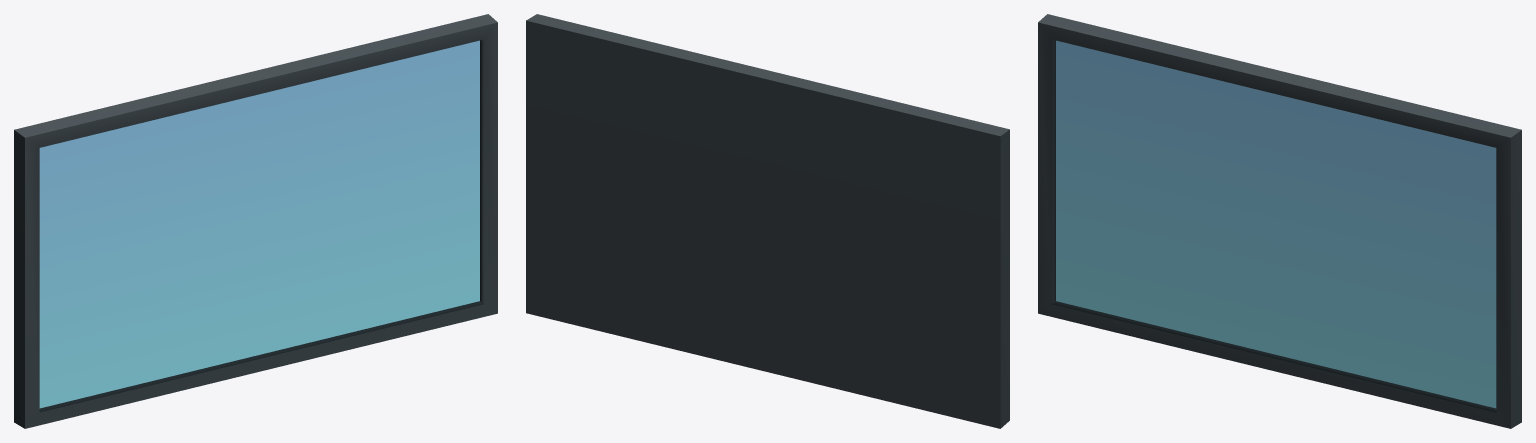
The model's file is human-electronics-flat-screen-tv_v1.glb.
3 renders of one model, left to right at view 1: azimuth 30°, elevation 25°; view 2: azimuth 150°, elevation 25°; view 3: azimuth 330°, elevation 25°, orthographic.
Visible parts, largest first — view 1: Flat Screen TV, Flat Screen TV.001; view 2: Flat Screen TV.001; view 3: Flat Screen TV, Flat Screen TV.001.
Boxes of the visible parts, x1,y1,x2,y2 form: Flat Screen TV: [39, 40, 479, 408]; Flat Screen TV.001: [14, 14, 497, 428]; Flat Screen TV.001: [526, 14, 1009, 428]; Flat Screen TV: [1056, 40, 1496, 408]; Flat Screen TV.001: [1038, 14, 1521, 428].
Size of the model in its own units: 1 by 0.5893 by 0.039.
